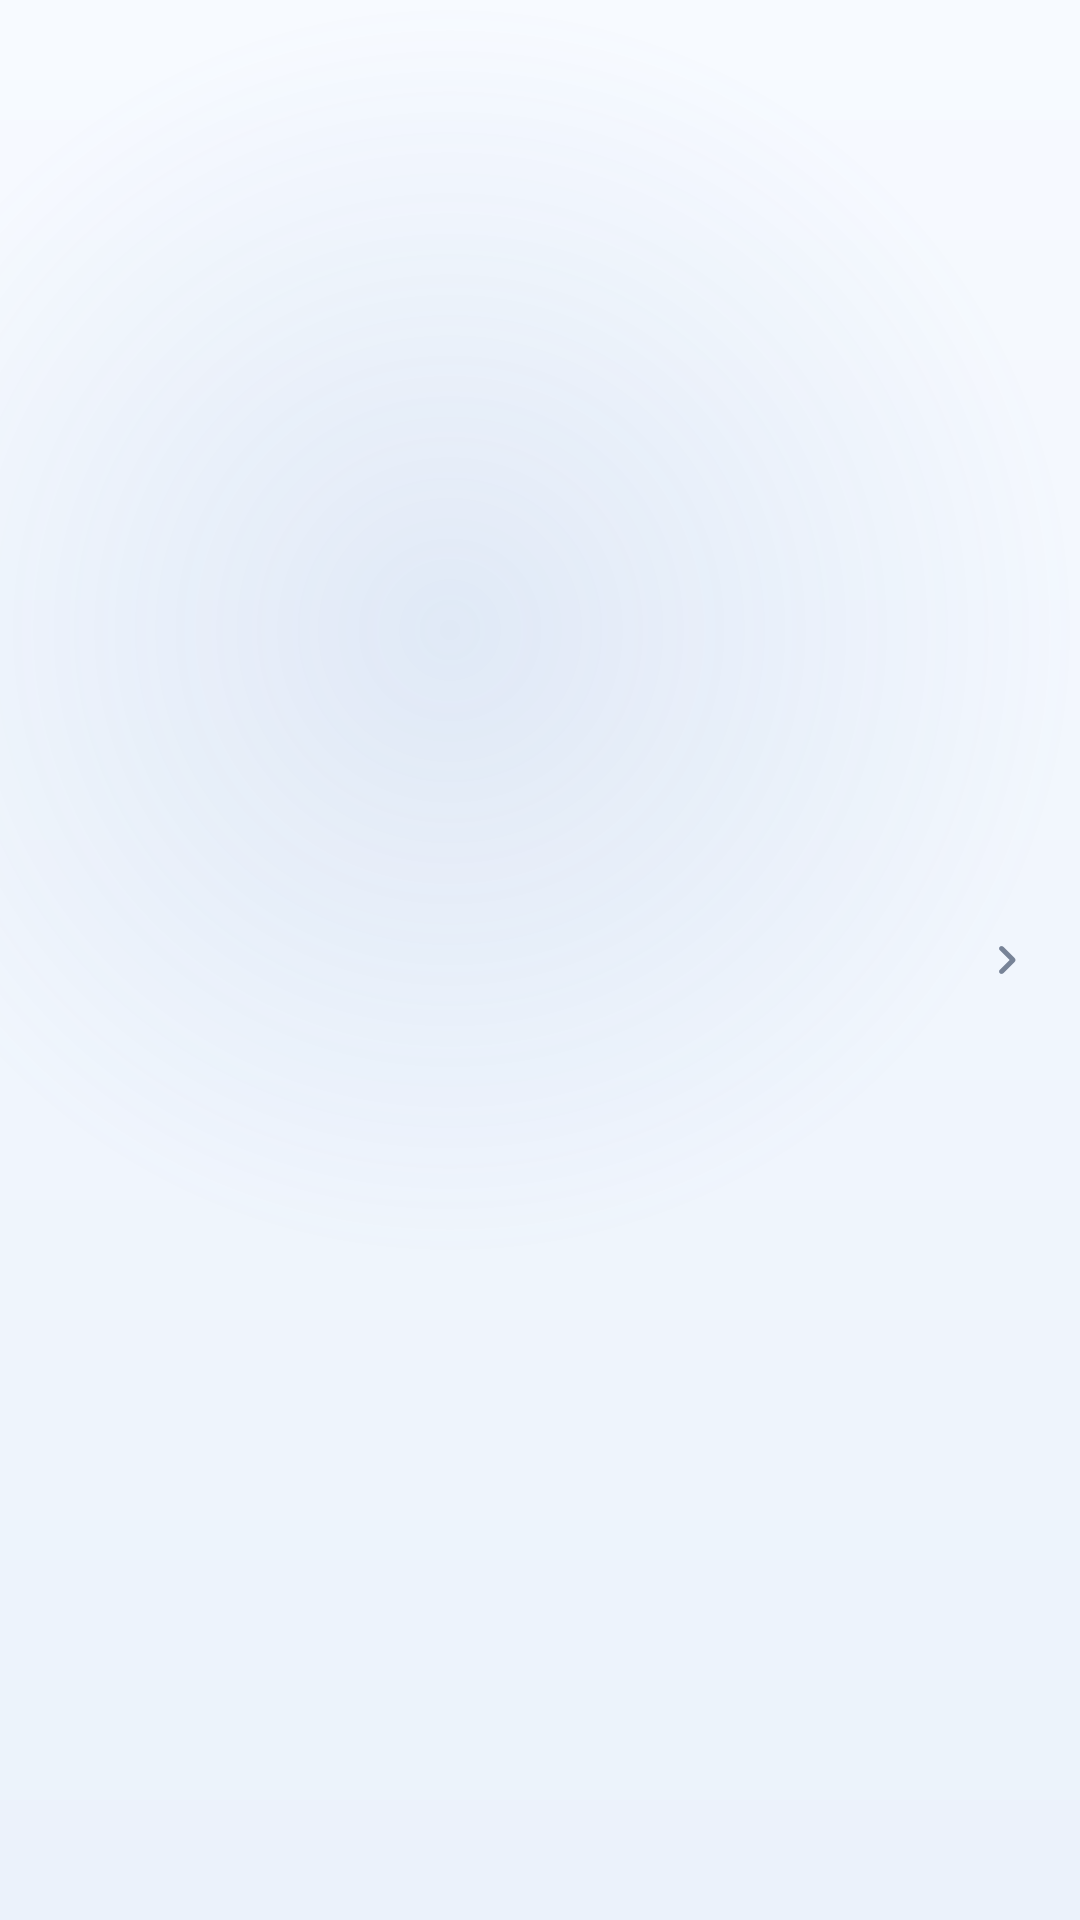

Screen size 1080×1920. Icon name, then its box in pixels as {"left": x1, "top": y1, "right": x2, "bottom": y2}:
chevron right: {"left": 999, "top": 946, "right": 1016, "bottom": 974}
